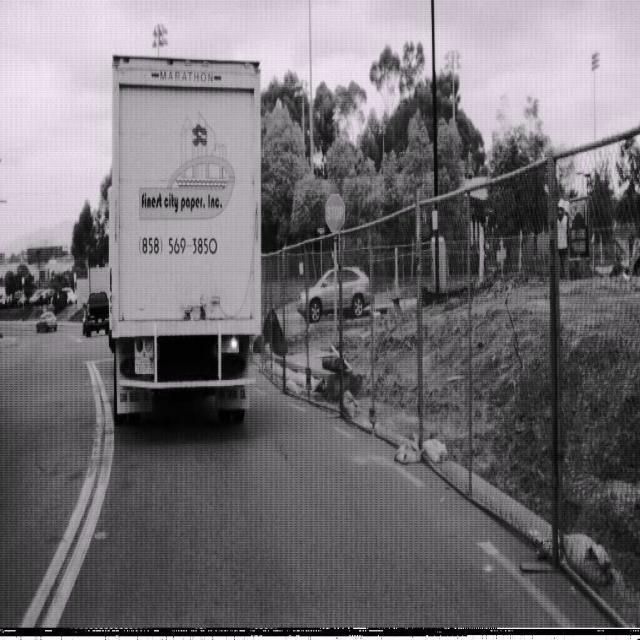stop: (324, 191, 346, 234)
